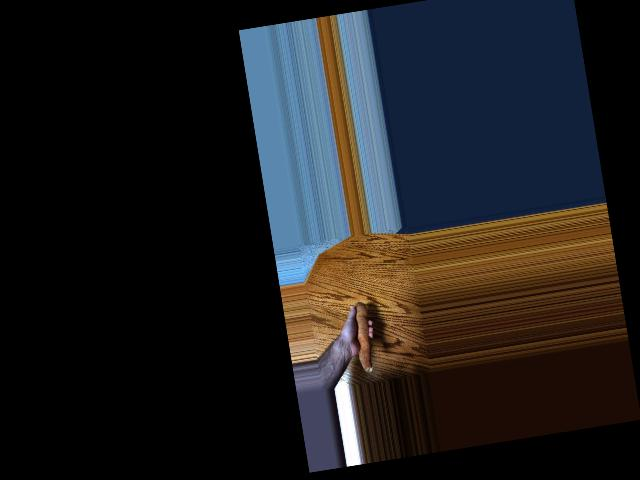sweet_potato: (345, 295, 380, 375)
